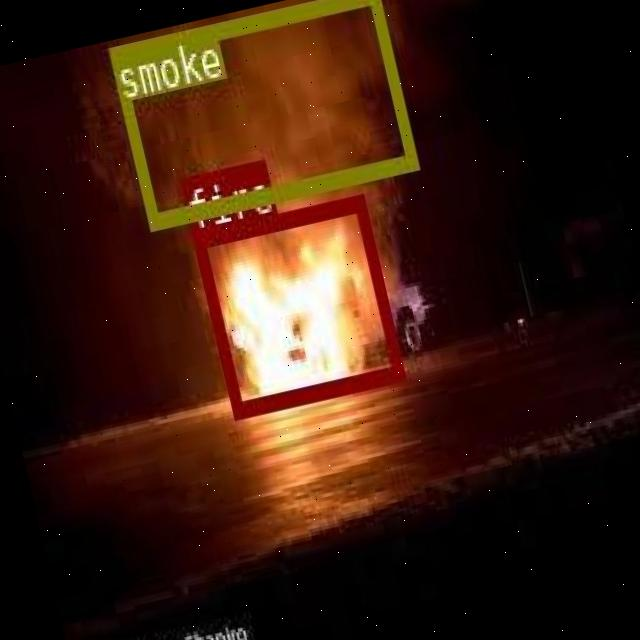fire: (190, 193, 402, 414)
smoke: (106, 0, 417, 229)
